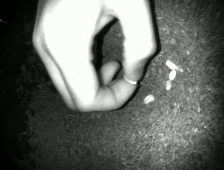corn: (164, 57, 179, 73), (121, 73, 138, 86), (141, 93, 156, 105), (166, 67, 178, 82), (163, 78, 175, 92), (174, 62, 186, 74)
